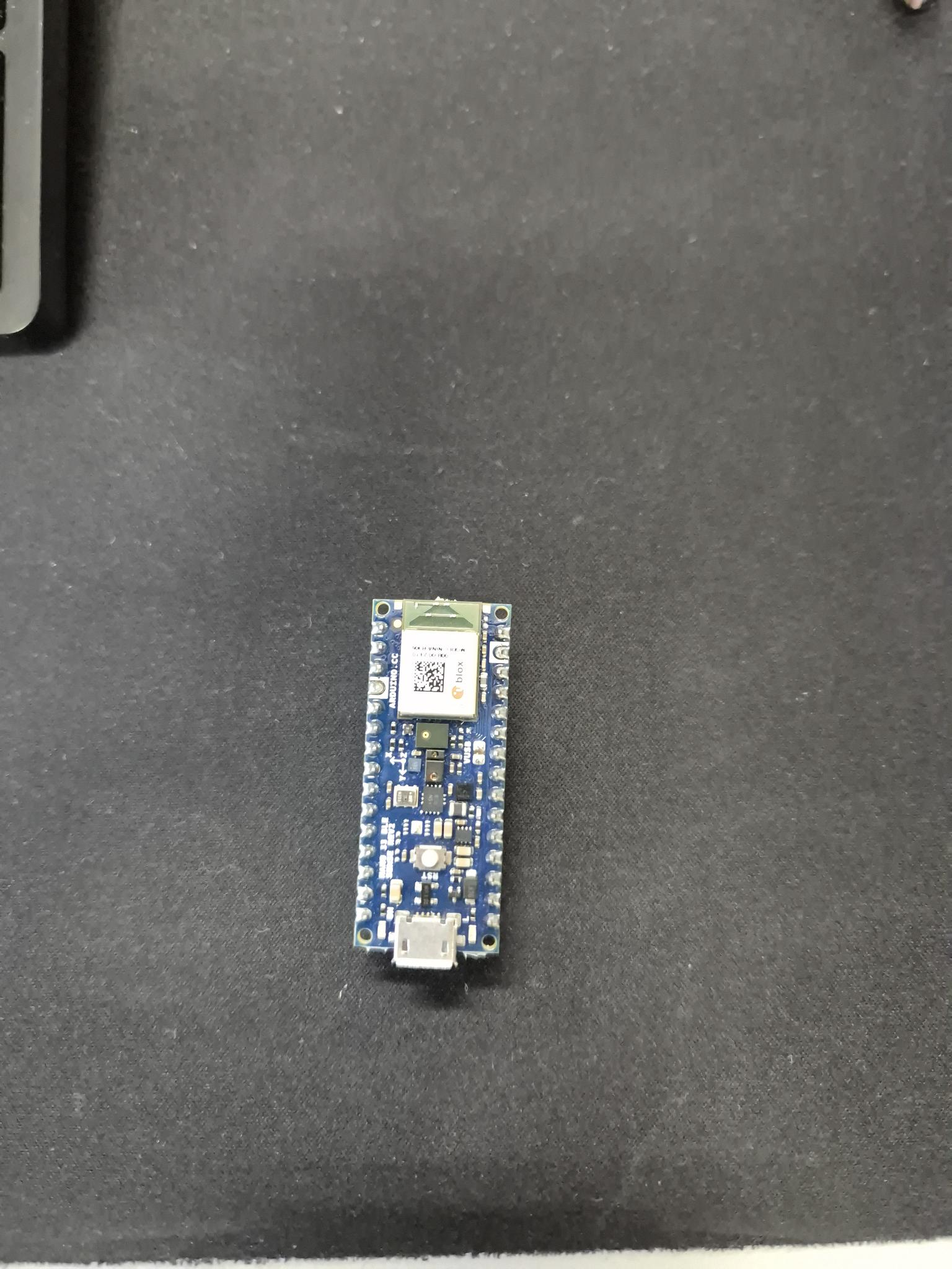arduino-nano-ble-sense: (355, 599, 511, 968)
